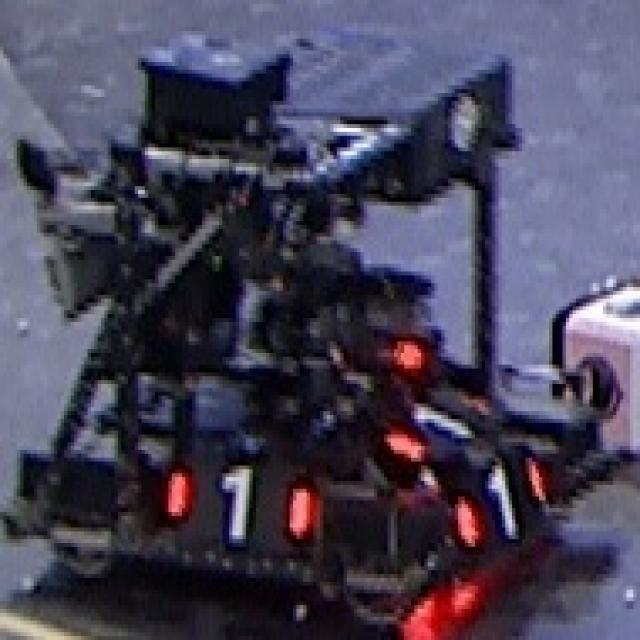R1: (162, 458, 310, 547), (451, 458, 546, 547), (384, 384, 492, 458)
